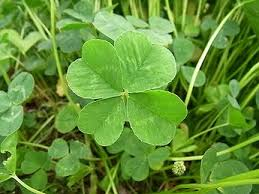4-clover: (67, 29, 188, 147)
